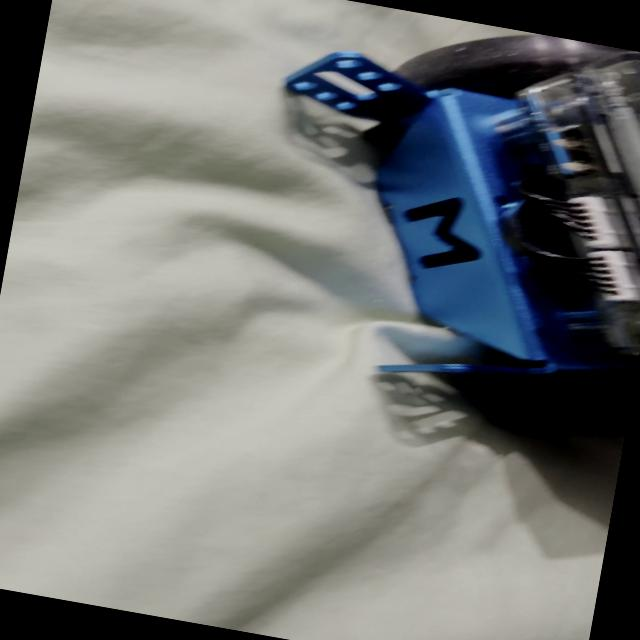mbot-detection: (202, 0, 640, 475)
